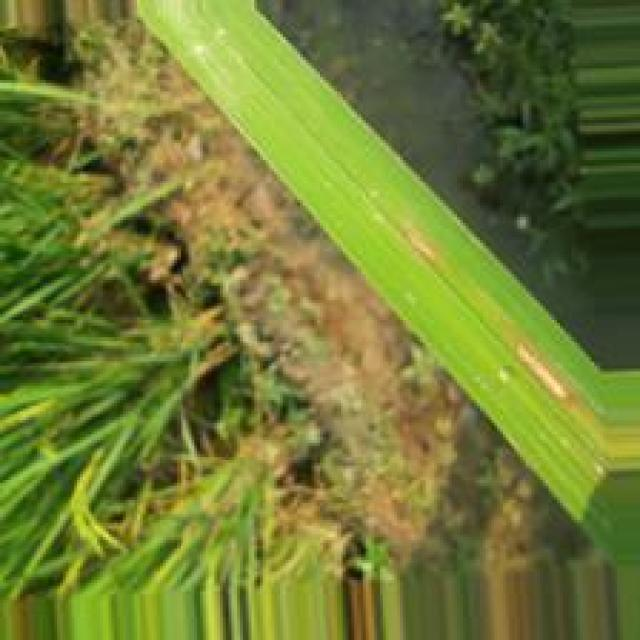Leaf_Blast: (506, 336, 582, 415), (393, 224, 446, 274)
